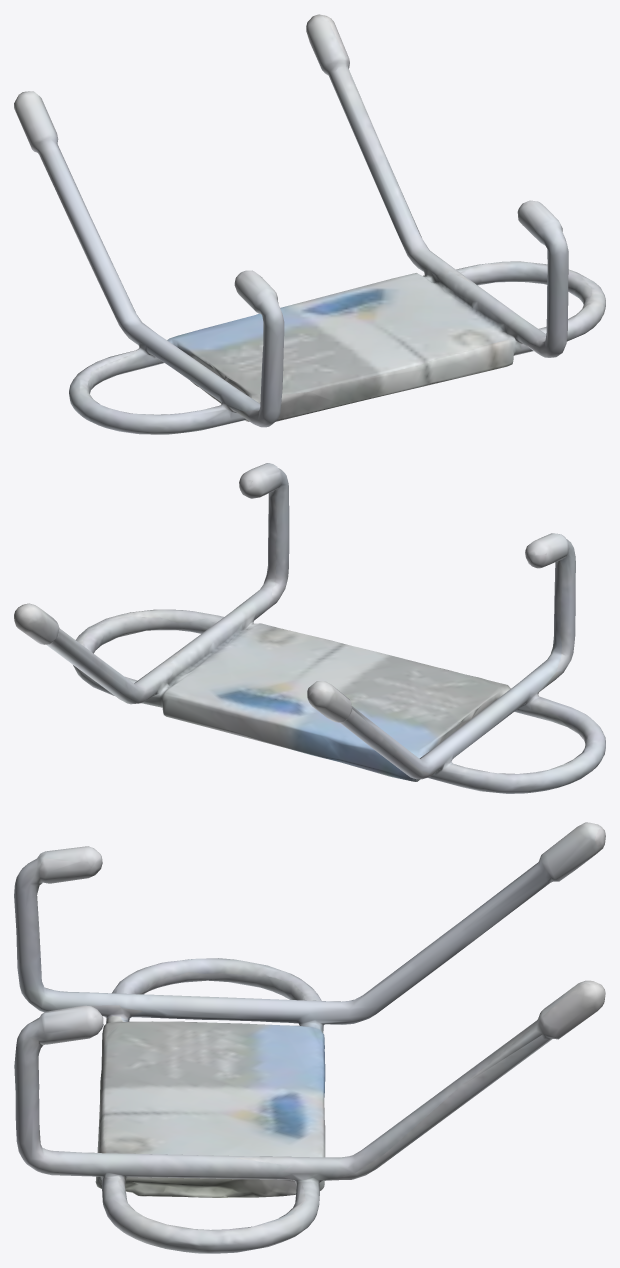
File: Spectrum_Wall_Mount-high.glb
3 renders of one model, top to bottom at view 1: azimuth 30°, elevation 25°; view 2: azimuth 150°, elevation 25°; view 3: azimuth 270°, elevation 25°, orthographic. The views are drawn at different scales.
Visible parts, largest first — view 1: Spectrum_Wall_Mount; view 2: Spectrum_Wall_Mount; view 3: Spectrum_Wall_Mount.
Boxes of the visible parts, box(x1,y1,x2,y2) form: Spectrum_Wall_Mount: box(14, 14, 605, 434); Spectrum_Wall_Mount: box(14, 463, 605, 793); Spectrum_Wall_Mount: box(14, 822, 605, 1253).
Bounding box in the file's own units: 0.1605 × 0.0598 × 0.1395.
1 material, 1 textured.
